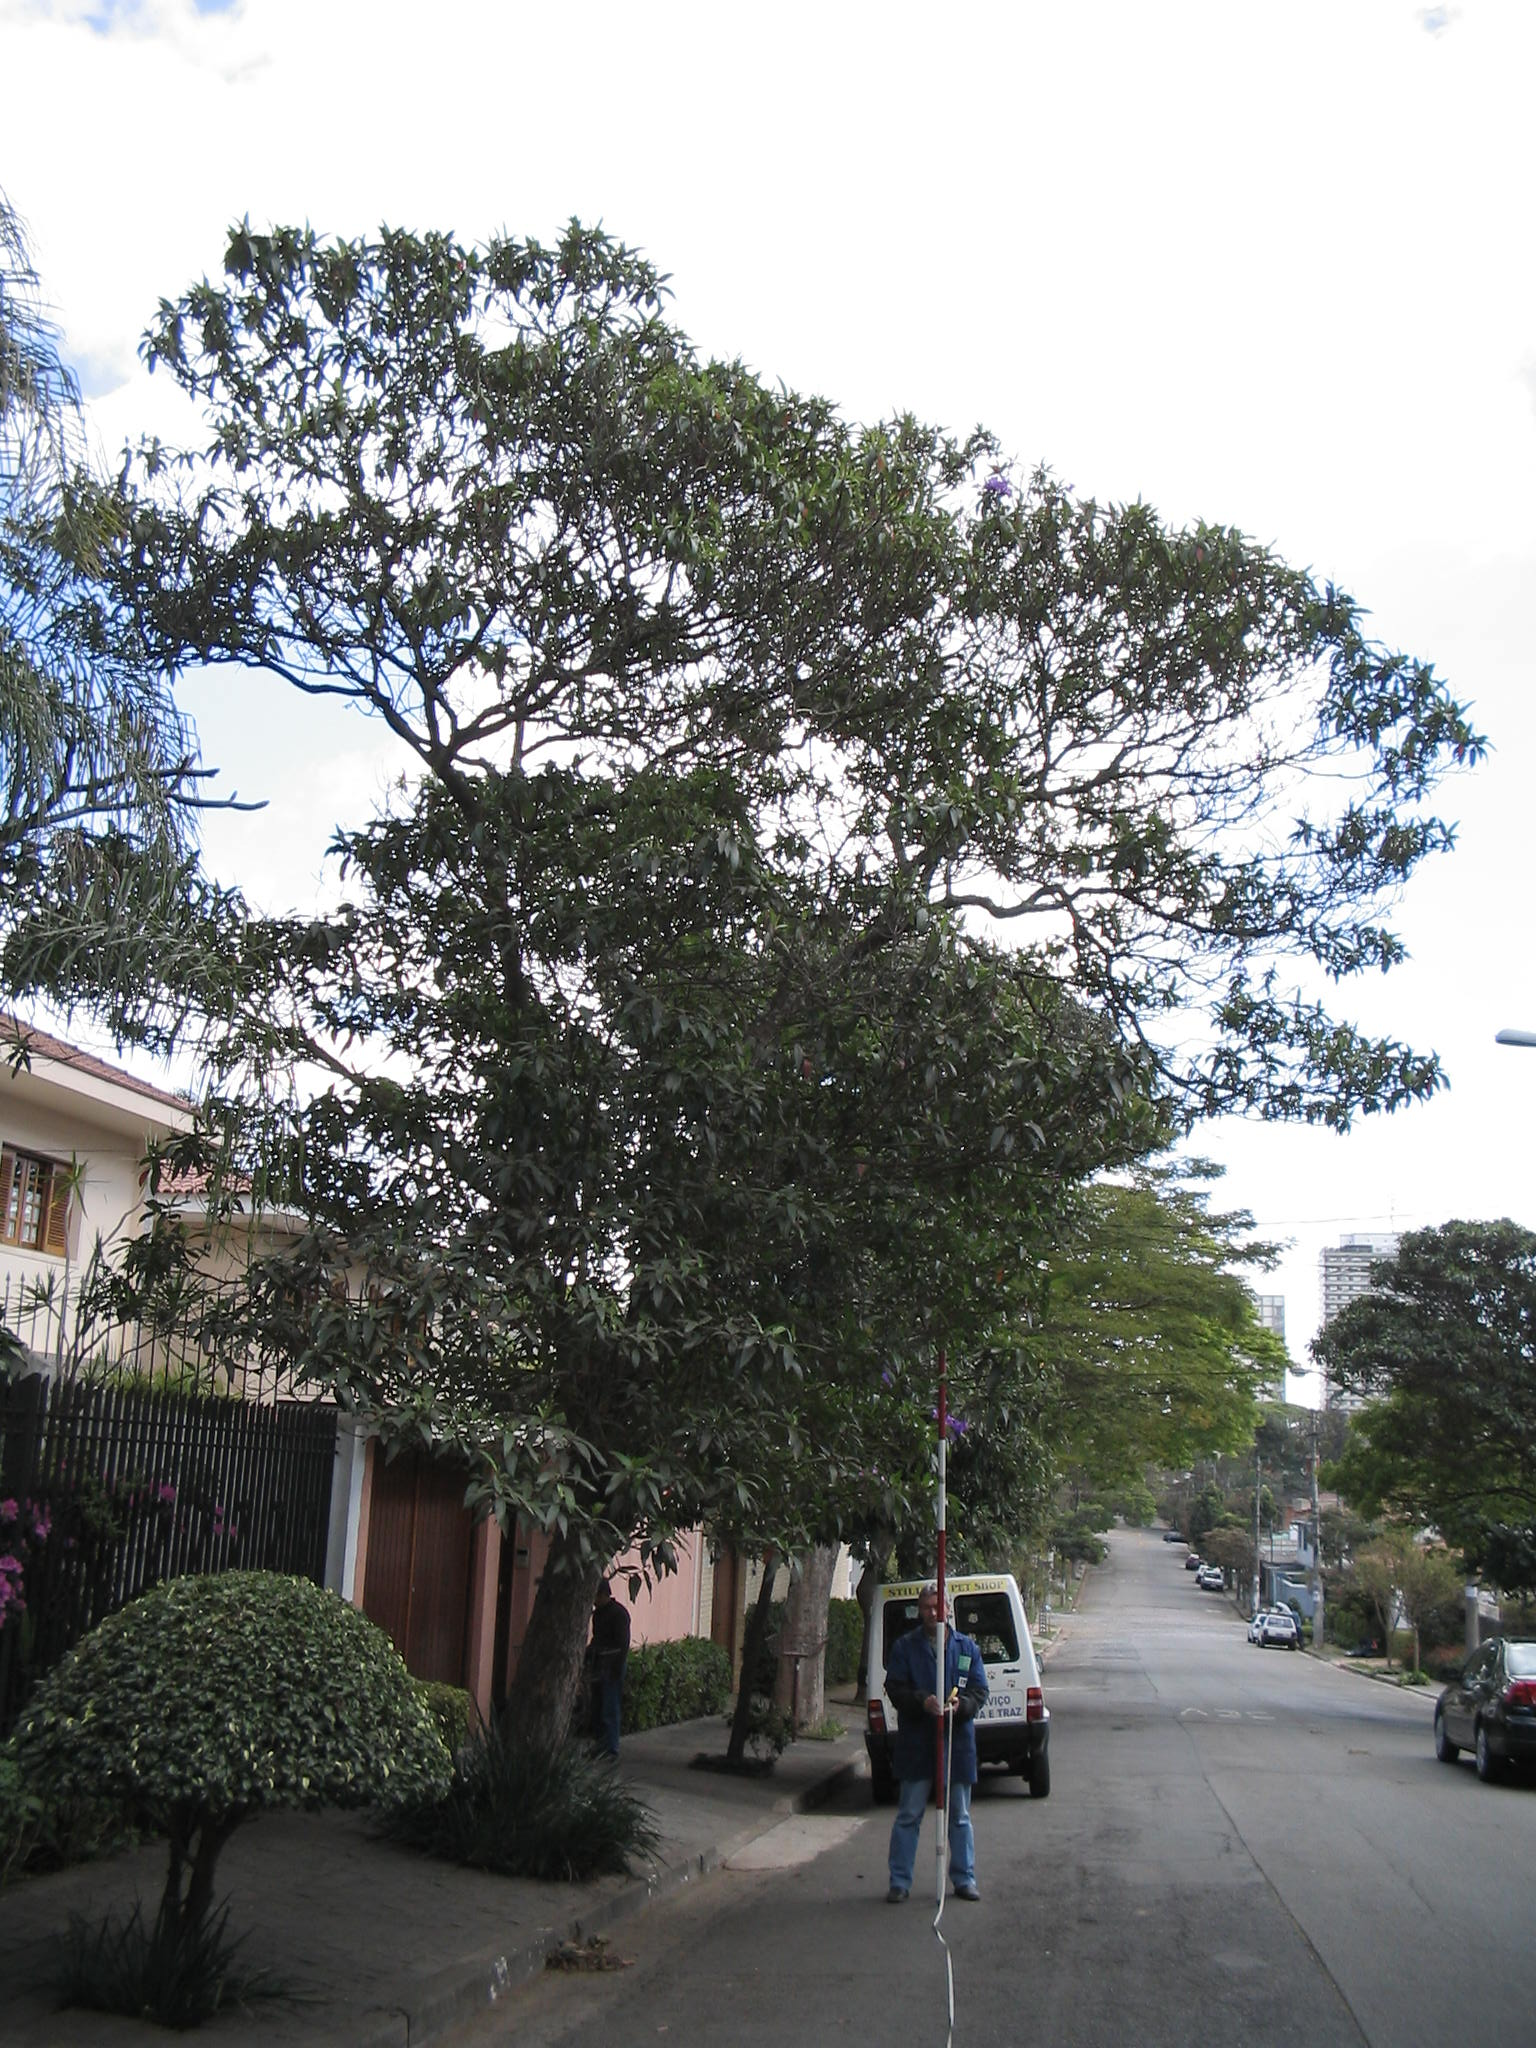crown: (53, 219, 1492, 1514)
stem: (458, 1538, 628, 1875)
stick: (916, 1351, 970, 1917)
tree: (50, 214, 1497, 1875)
